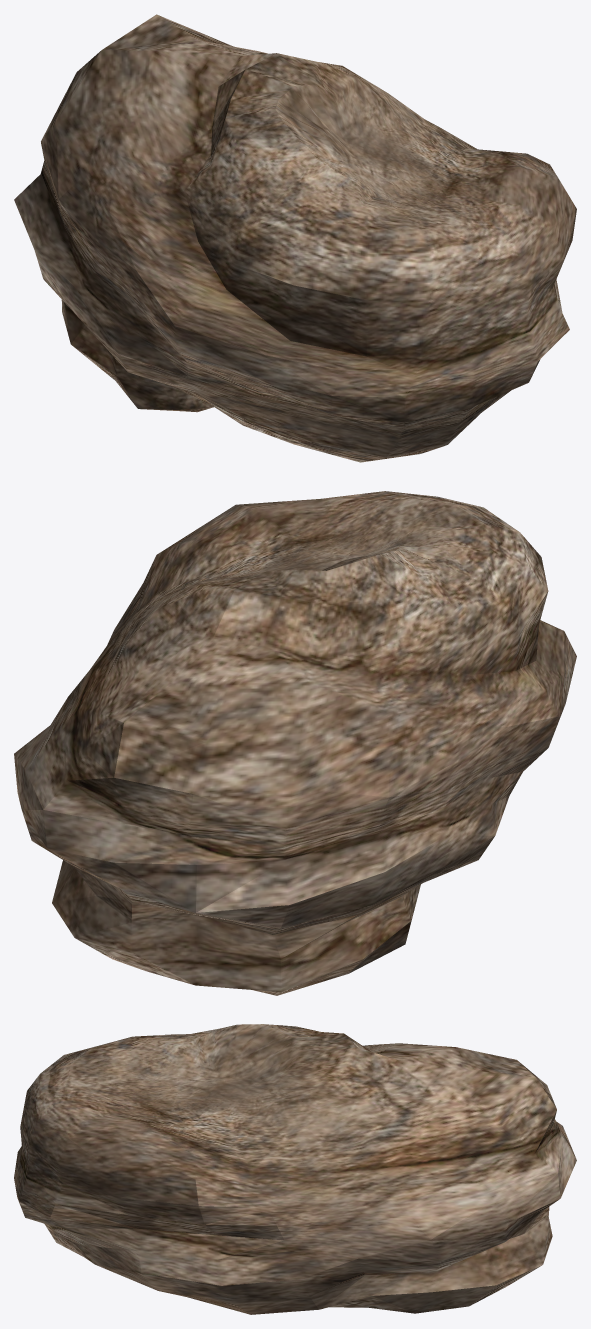
The model's file is RockSmallThin_LOD0.obj.
The picture shows the model from 3 angles, top to bottom: view 1: azimuth 30°, elevation 25°; view 2: azimuth 150°, elevation 25°; view 3: azimuth 270°, elevation 25°; orthographic projection. The views are drawn at different scales.
Visible parts, largest first — view 1: RockSmallThin_LOD0; view 2: RockSmallThin_LOD0; view 3: RockSmallThin_LOD0.
Boxes of the visible parts, x1,y1,x2,y2 form: RockSmallThin_LOD0: (14,14,576,462); RockSmallThin_LOD0: (14,491,576,995); RockSmallThin_LOD0: (14,1024,576,1314).
Size of the model in its own units: 1.23 by 0.9621 by 1.92.
